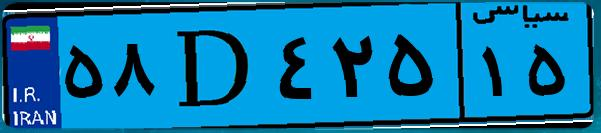1: (475, 38, 525, 113)
2: (330, 28, 385, 110)
4: (270, 28, 330, 110)
5: (385, 28, 445, 110), (57, 26, 110, 100), (525, 38, 570, 115)
8: (110, 28, 158, 98)
D: (158, 12, 270, 120)
